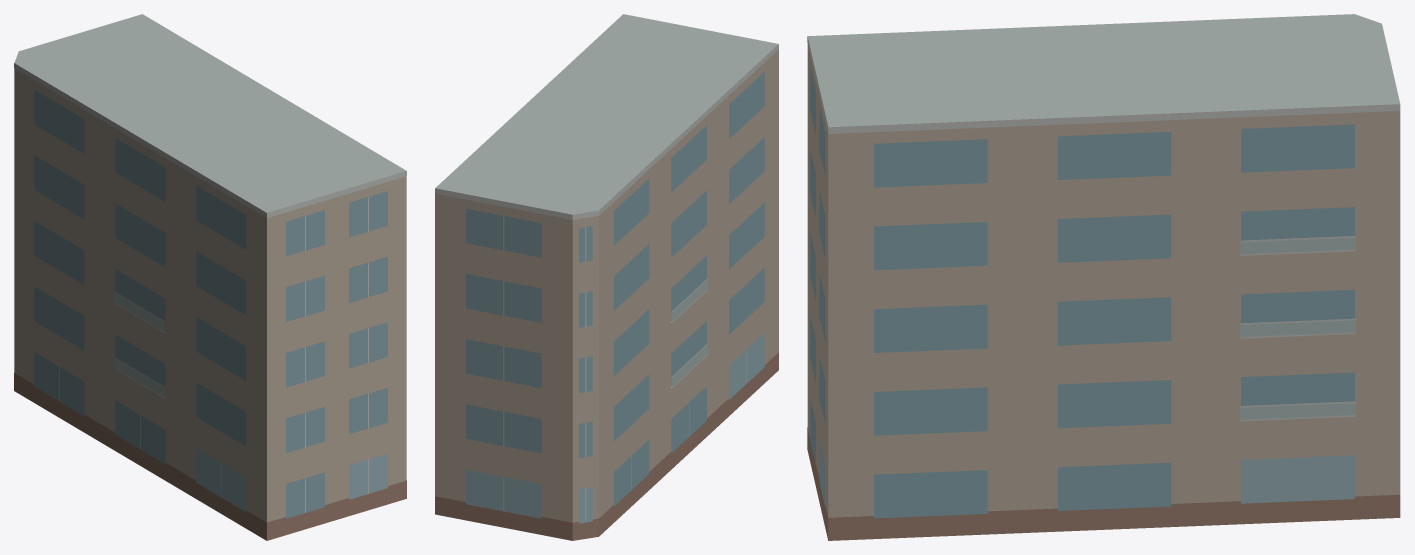
Rendered from survey-upis-32620413.glb.
3 views of the same model, side by side, from view 1: azimuth 30°, elevation 25°; view 2: azimuth 150°, elevation 25°; view 3: azimuth 270°, elevation 25° (orthographic). The views are drawn at different scales.
Parts seen in each view (by area): view 1: survey-upis-32620413.tmp; view 2: survey-upis-32620413.tmp; view 3: survey-upis-32620413.tmp.
Boxes of the visible parts, x1,y1,x2,y2 form: survey-upis-32620413.tmp: [14, 14, 406, 540]; survey-upis-32620413.tmp: [435, 14, 778, 540]; survey-upis-32620413.tmp: [807, 14, 1400, 540].
Bounding box in the file's own units: 8.82 × 15 × 19.49.
